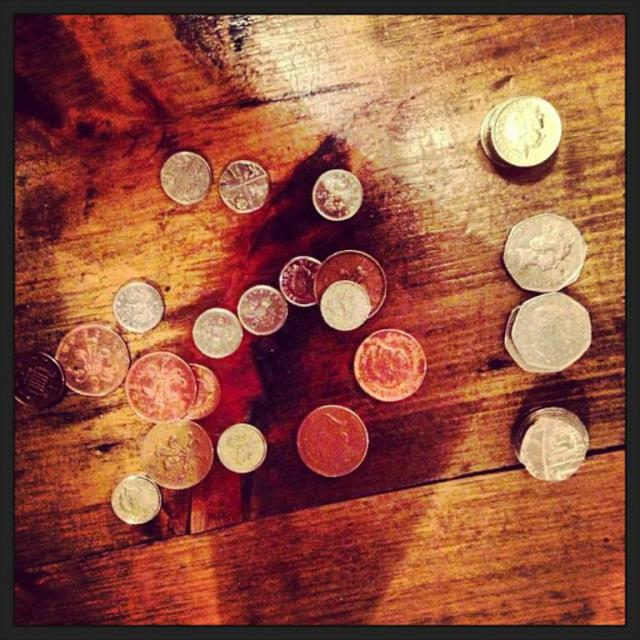Coin: (501, 209, 591, 292), (508, 288, 596, 369), (505, 405, 592, 486), (477, 100, 572, 173), (53, 324, 132, 401), (125, 349, 200, 426), (353, 328, 429, 402), (140, 417, 214, 492), (312, 251, 390, 322), (296, 406, 367, 480), (154, 151, 214, 206), (14, 351, 66, 414), (320, 278, 373, 337), (190, 306, 244, 363), (500, 303, 543, 374), (216, 157, 271, 212), (237, 278, 290, 334), (111, 472, 162, 529), (180, 357, 225, 421), (274, 256, 324, 313), (112, 276, 163, 330), (315, 168, 364, 224), (219, 422, 270, 474)
